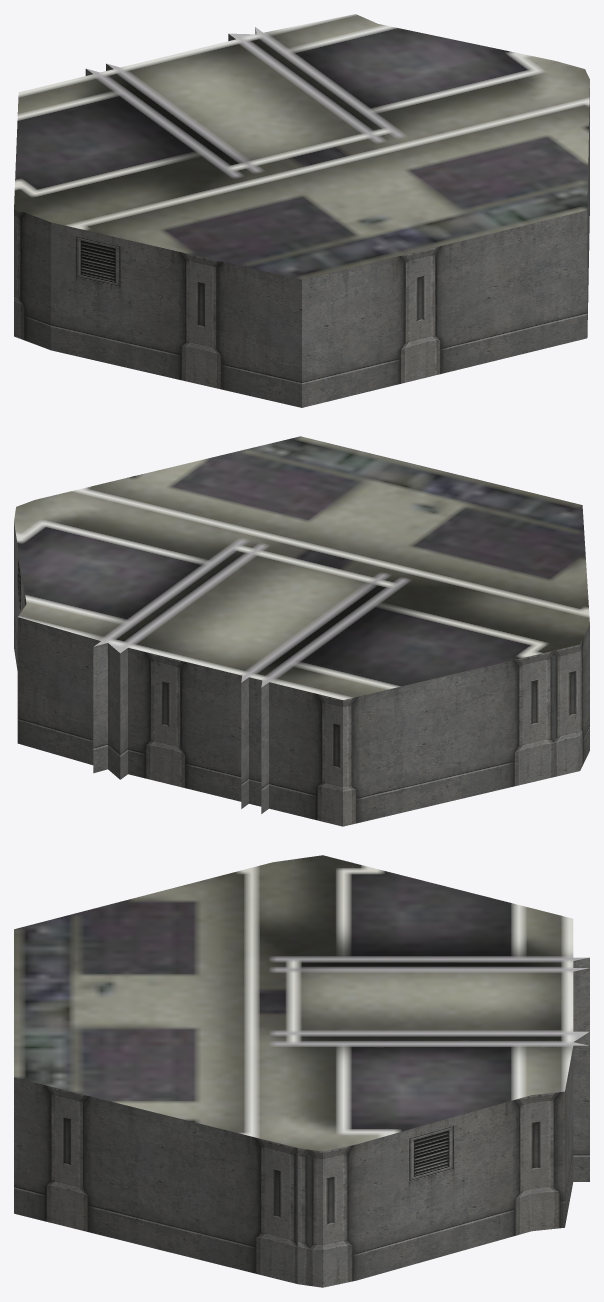
File: BuildingSystem-03-Advance-04-ReinforcedLow-X-110-03.glb
The picture shows the model from 3 angles, top to bottom: view 1: azimuth 30°, elevation 25°; view 2: azimuth 150°, elevation 25°; view 3: azimuth 270°, elevation 25°; orthographic projection. The views are drawn at different scales.
Parts seen in each view (by area): view 1: buildings/saxarba/SMV_Buildings/BuildingSystem-03-Advance-04; view 2: buildings/saxarba/SMV_Buildings/BuildingSystem-03-Advance-04; view 3: buildings/saxarba/SMV_Buildings/BuildingSystem-03-Advance-04.
Boxes of the visible parts, x1,y1,x2,y2 form: buildings/saxarba/SMV_Buildings/BuildingSystem-03-Advance-04: [14, 14, 589, 407]; buildings/saxarba/SMV_Buildings/BuildingSystem-03-Advance-04: [14, 436, 589, 826]; buildings/saxarba/SMV_Buildings/BuildingSystem-03-Advance-04: [14, 855, 589, 1287].
Bounding box in the file's own units: 84 × 18 × 69.
